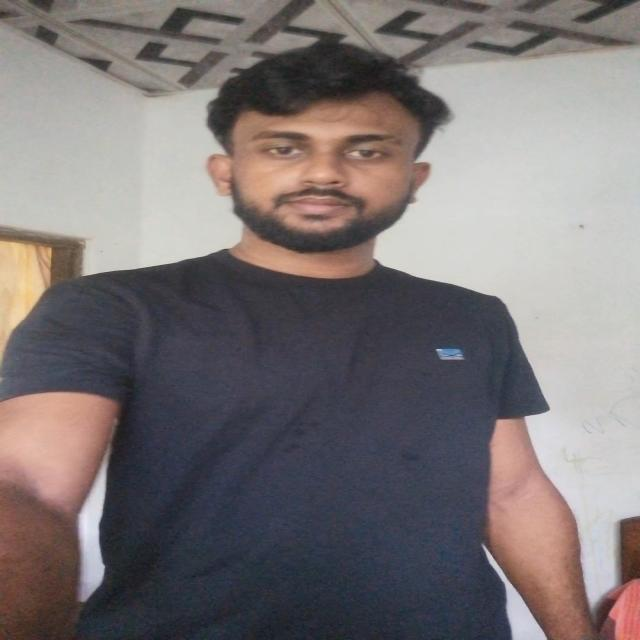Person: (10, 46, 597, 640)
